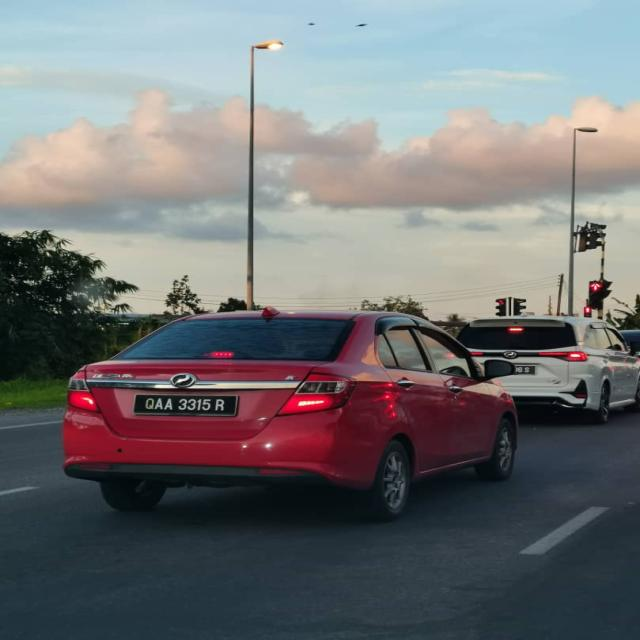PeroduaBezza: (61, 305, 520, 520)
